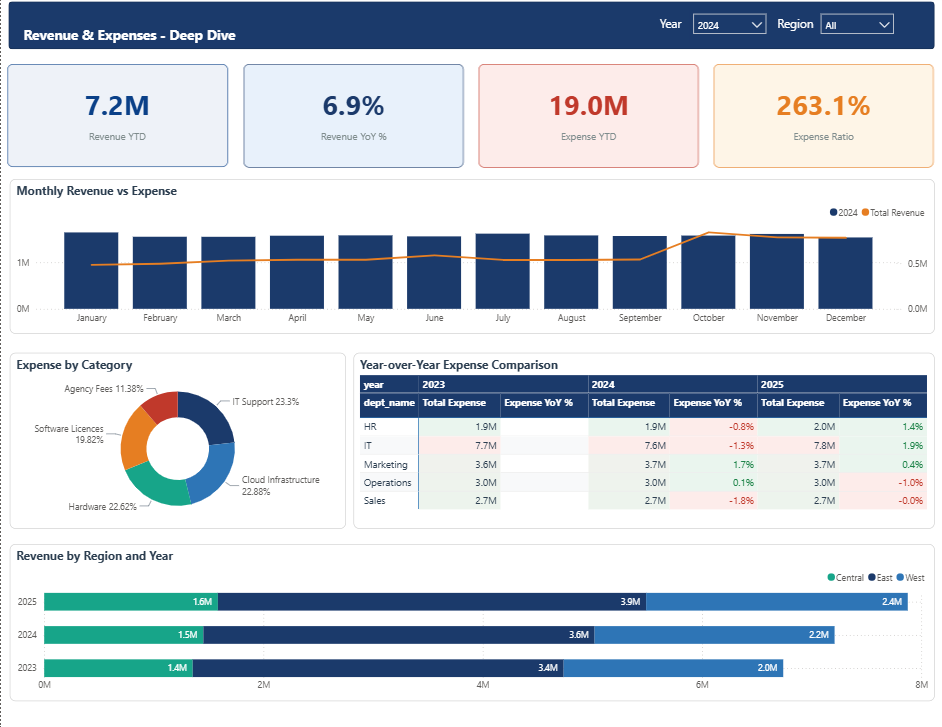

What the dashboard file says about the page in this screenshot:
{"tool":"powerbi","page":{"name":"Revenue & Expenses","canvas":[1280,1000],"ordinal":1},"visuals":[{"type":"shape","box":[9.8,11,1258.3,64.8],"z":0},{"type":"textbox","box":[25.4,37.1,441.4,40.4],"z":1000},{"type":"slicer","fields":{"Values":["production dim_date.year"]},"box":[935.5,22,108.8,44],"z":2000},{"type":"textbox","box":[890.2,24.5,62.4,33],"z":3000},{"type":"slicer","fields":{"Values":["production dim_region.region_name"]},"box":[1109.1,22,108.8,44],"z":4000},{"type":"textbox","box":[1049.2,24.5,62.4,33],"z":5000},{"type":"advanceCardE03760C5AB684758B56AA29F9E6C257B","fields":{"mainMeasure":["_Measures.Revenue YTD"]},"box":[9.2,95,300,140],"z":6000},{"type":"advanceCardE03760C5AB684758B56AA29F9E6C257B","fields":{"mainMeasure":["_Measures.Revenue YoY %"]},"box":[329.1,95,299.6,140.6],"z":7000},{"type":"advanceCardE03760C5AB684758B56AA29F9E6C257B","fields":{"mainMeasure":["_Measures.Expense YTD"]},"box":[648.5,95,299.6,140.6],"z":8000},{"type":"advanceCardE03760C5AB684758B56AA29F9E6C257B","fields":{"mainMeasure":["_Measures.Expense Ratio"]},"box":[967.9,95,299.6,140.6],"z":9000},{"type":"lineStackedColumnComboChart","title":"Monthly Revenue vs Expense","fields":{"Category":["production dim_date.month_name"],"Y":["_Measures.Total Expense"],"Y2":["_Measures.Total Revenue"],"Series":["production dim_date.year"]},"box":[11.9,251.4,1256.8,210.6],"z":10000},{"type":"donutChart","title":"Expense by Category","fields":{"Category":["production dim_category.category_name"],"Y":["_Measures.Total Expense"]},"box":[11.9,487.4,456.9,239.5],"z":11000},{"type":"pivotTable","title":"Year-over-Year Expense Comparison","fields":{"Rows":["production dim_department.dept_name"],"Columns":["production dim_date.year"],"Values":["_Measures.Total Expense","_Measures.Expense YoY %"]},"box":[478.9,487.4,789.7,239.5],"z":12000},{"type":"barChart","title":"Revenue by Region and Year","fields":{"Category":["production dim_date.year"],"Y":["_Measures.Total Revenue"],"Series":["production dim_region.region_name"]},"box":[11.9,747.3,1256.8,214],"z":13000}]}

Visuals, with their boxes in screenshot pixels (x1, y1, x2, y2), scaled from the page's 1280x1000 canvas onto the 942x727 screenshot:
shape: bbox=[7, 8, 933, 55]
textbox: bbox=[19, 27, 344, 56]
slicer - production dim_date.year: bbox=[688, 16, 769, 48]
textbox: bbox=[655, 18, 701, 42]
slicer - production dim_region.region_name: bbox=[816, 16, 896, 48]
textbox: bbox=[772, 18, 818, 42]
advanceCardE03760C5AB684758B56AA29F9E6C257B - _Measures.Revenue YTD: bbox=[7, 69, 228, 171]
advanceCardE03760C5AB684758B56AA29F9E6C257B - _Measures.Revenue YoY %: bbox=[242, 69, 463, 171]
advanceCardE03760C5AB684758B56AA29F9E6C257B - _Measures.Expense YTD: bbox=[477, 69, 698, 171]
advanceCardE03760C5AB684758B56AA29F9E6C257B - _Measures.Expense Ratio: bbox=[712, 69, 933, 171]
"Monthly Revenue vs Expense" lineStackedColumnComboChart: bbox=[9, 183, 934, 336]
"Expense by Category" donutChart: bbox=[9, 354, 345, 528]
"Year-over-Year Expense Comparison" pivotTable: bbox=[352, 354, 934, 528]
"Revenue by Region and Year" barChart: bbox=[9, 543, 934, 699]
